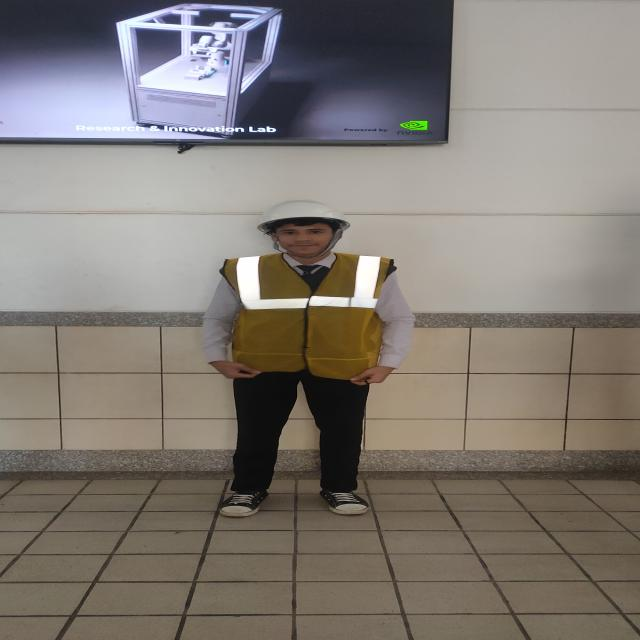safe: (199, 198, 407, 517)
